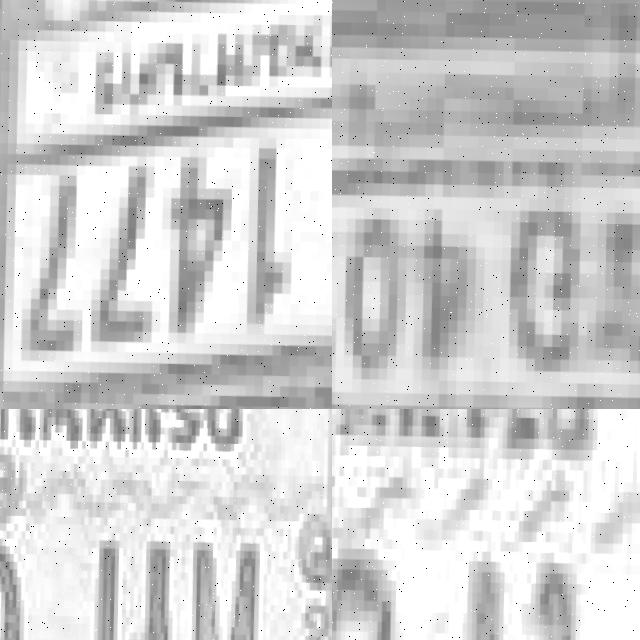license-plate: (0, 0, 332, 409), (332, 8, 640, 409), (0, 409, 332, 640), (332, 409, 640, 640)
